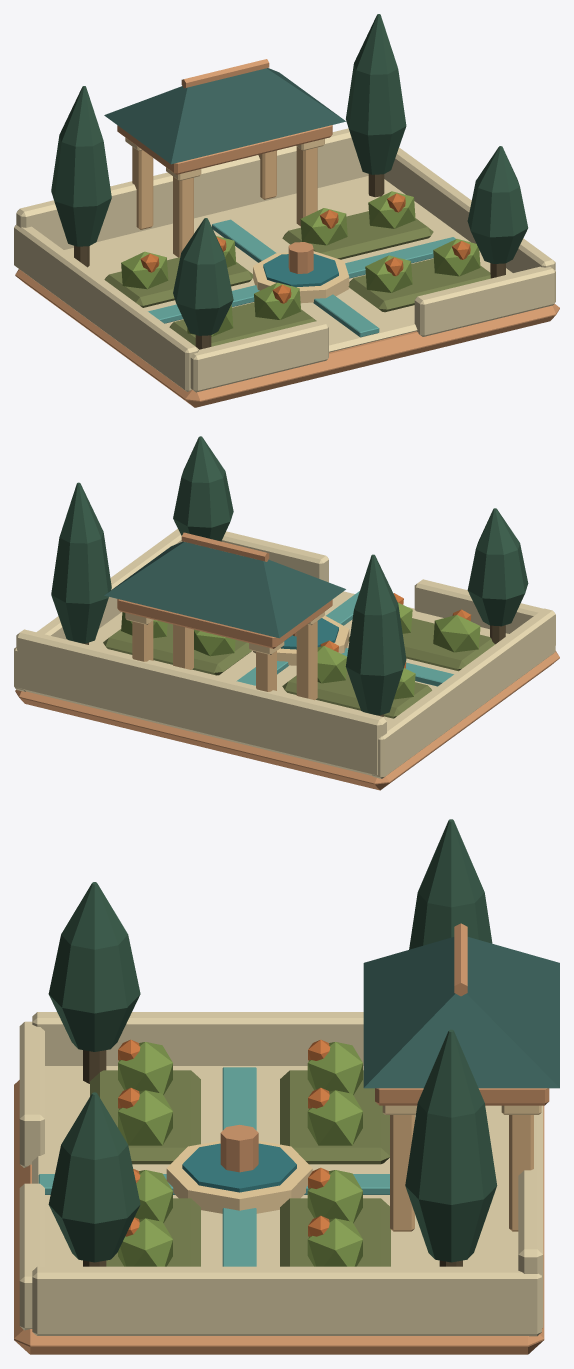
The model's file is paradise-garden.glb.
The picture shows the model from 3 angles, top to bottom: view 1: azimuth 30°, elevation 25°; view 2: azimuth 150°, elevation 25°; view 3: azimuth 270°, elevation 25°; orthographic projection. The views are drawn at different scales.
Parts seen in each view (by area): view 1: paradise-garden; view 2: paradise-garden; view 3: paradise-garden.
Boxes of the visible parts, box(x1,y1,x2,y2) form: paradise-garden: box(14, 14, 559, 407); paradise-garden: box(14, 436, 559, 790); paradise-garden: box(14, 819, 559, 1354).
Size of the model in its own units: 1.17 by 0.6208 by 1.01.
